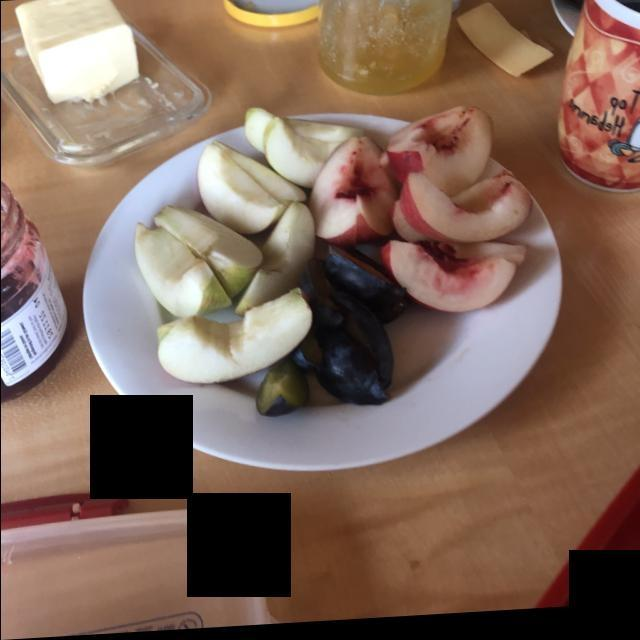apple: (130, 108, 370, 394)
nectarine: (316, 113, 538, 305)
plum: (252, 241, 407, 414)
